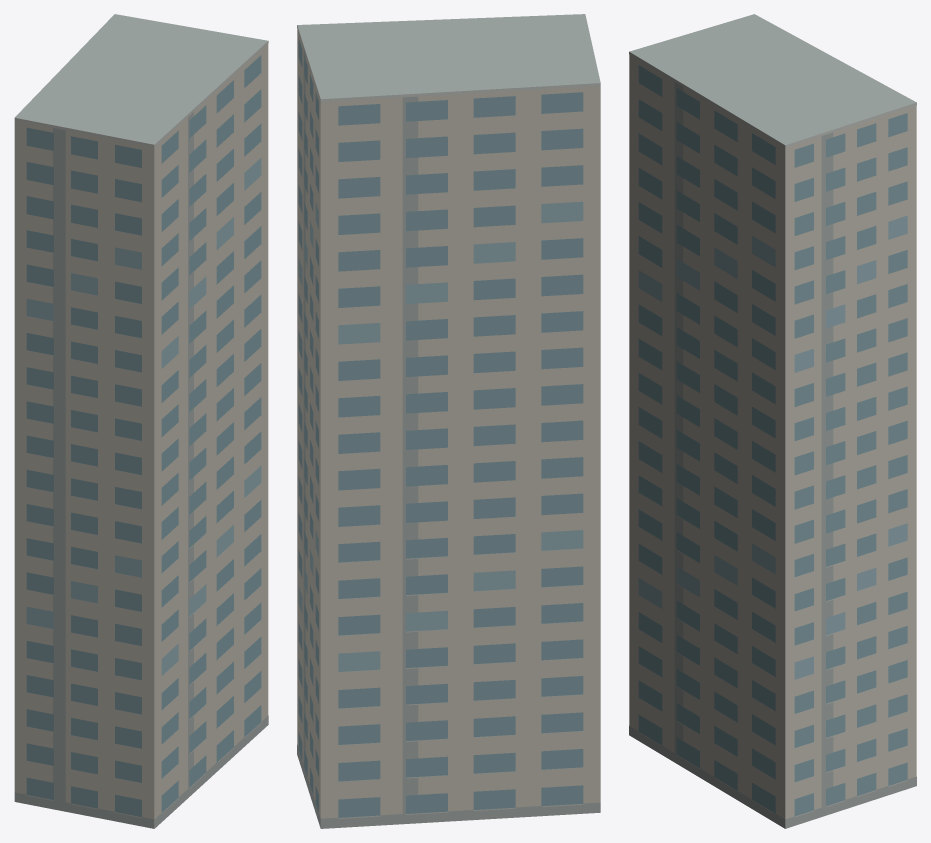
File: survey-upis-32725245.glb
The picture shows the model from 3 angles, left to right: view 1: azimuth 30°, elevation 25°; view 2: azimuth 150°, elevation 25°; view 3: azimuth 270°, elevation 25°; orthographic projection. The views are drawn at different scales.
Parts seen in each view (by area): view 1: survey-upis-32725245.tmp; view 2: survey-upis-32725245.tmp; view 3: survey-upis-32725245.tmp.
Part boxes in pixels (x1,y1,x2,y2): survey-upis-32725245.tmp: (14, 14, 268, 828); survey-upis-32725245.tmp: (297, 14, 600, 828); survey-upis-32725245.tmp: (629, 14, 916, 828).
Bounding box in the file's own units: 25.13 × 61 × 23.27.
